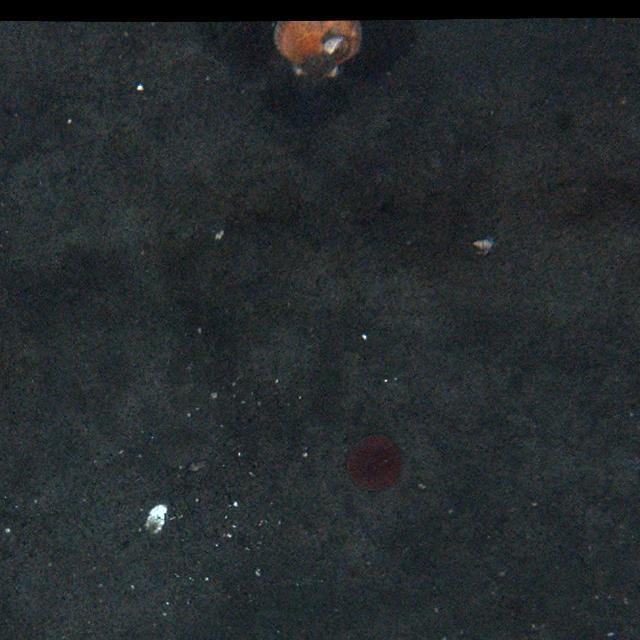scallop: (273, 21, 365, 83)
